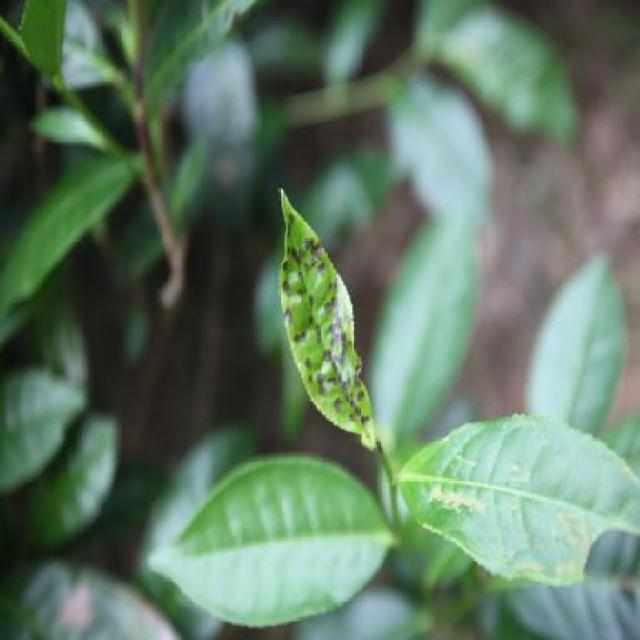Tea Mosquito bug infested leaf: (269, 191, 382, 458)
